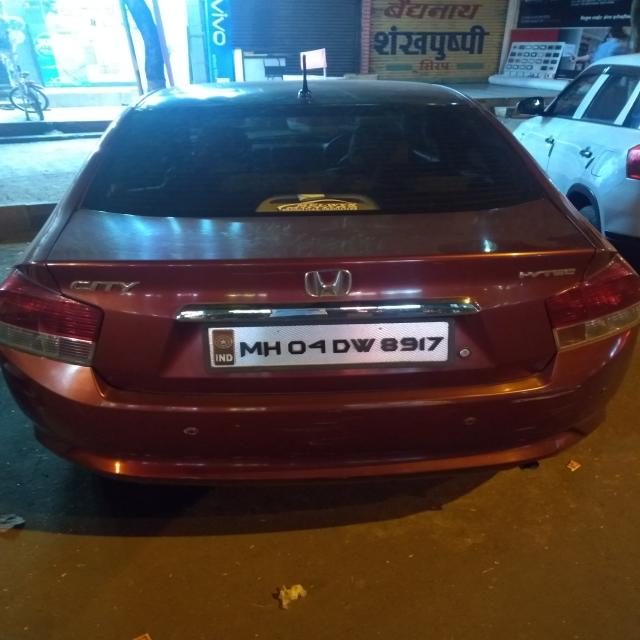Number-Plate: (214, 324, 452, 365)
